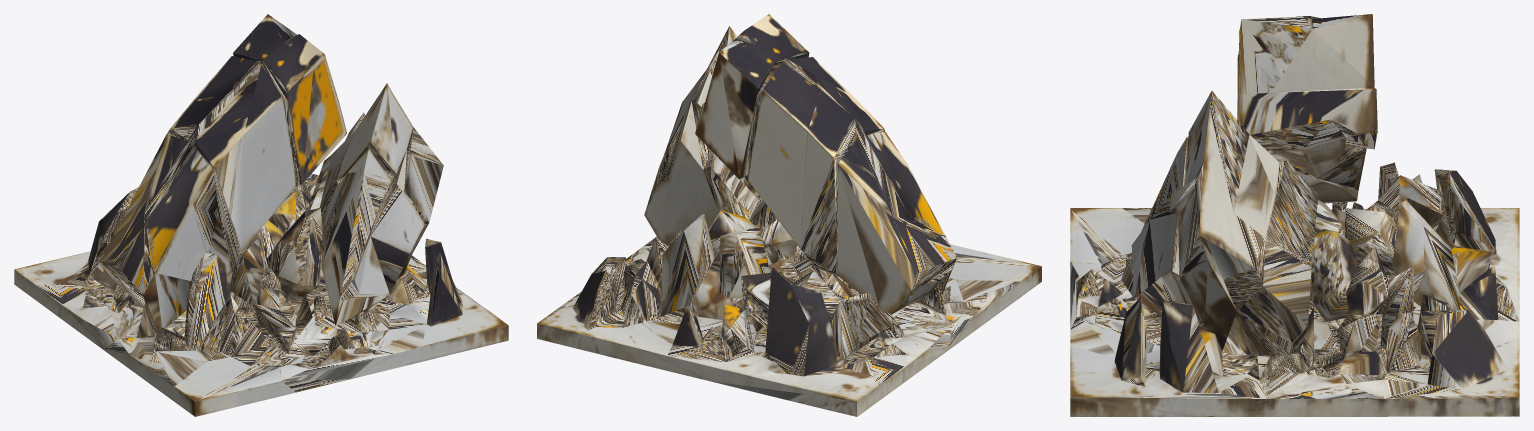
File: cover_half_dock_v6.glb
3 views of the same model, side by side, from view 1: azimuth 30°, elevation 25°; view 2: azimuth 150°, elevation 25°; view 3: azimuth 270°, elevation 25° (orthographic). The views are drawn at different scales.
Parts seen in each view (by area): view 1: Mesh_0; view 2: Mesh_0; view 3: Mesh_0.
Boxes of the visible parts, x1,y1,x2,y2 form: Mesh_0: (14, 14, 508, 416); Mesh_0: (537, 14, 1041, 416); Mesh_0: (1070, 14, 1519, 416).
Size of the model in its own units: 0.9598 by 0.7802 by 0.96.
Materials: 1 (1 with a texture image).
